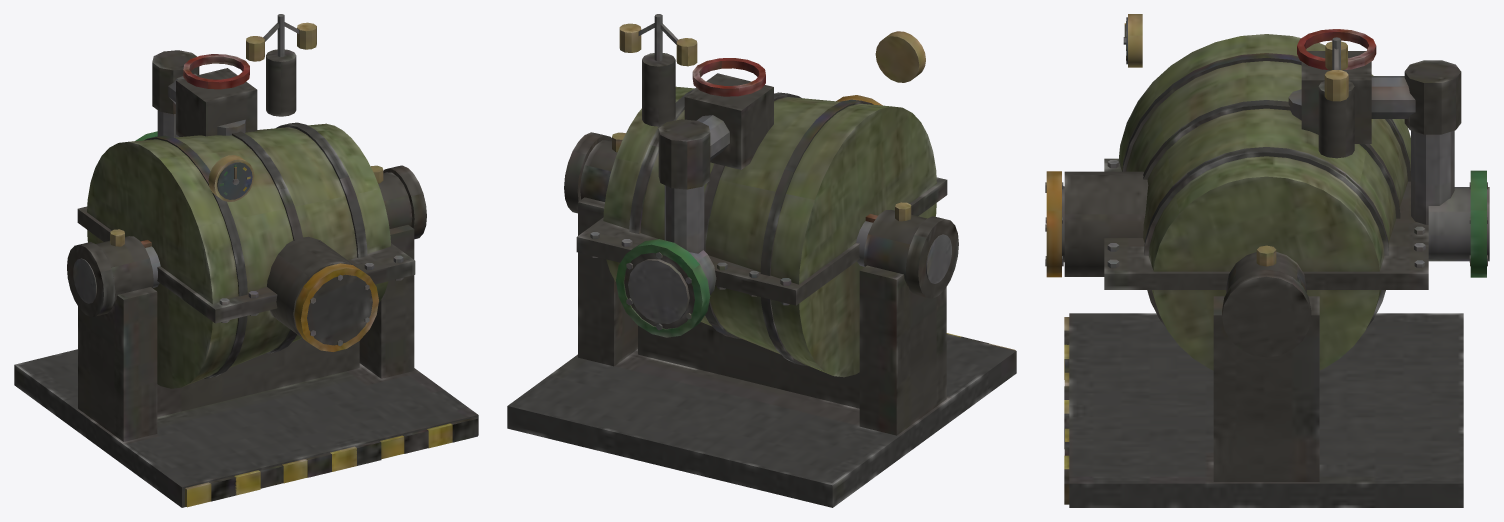
The model's file is feSteamTurbine.glb.
3 renders of one model, left to right at view 1: azimuth 30°, elevation 25°; view 2: azimuth 150°, elevation 25°; view 3: azimuth 270°, elevation 25°, orthographic. The views are drawn at different scales.
Parts seen in each view (by area): view 1: feSteamTurbine_Base, FeSpin_DriveShaft, FeSpin_x2_Governor; view 2: feSteamTurbine_Base, FeSpin_DriveShaft, FeSpin_x2_Governor; view 3: feSteamTurbine_Base, FeSpin_DriveShaft, FeSpin_x2_Governor.
Boxes of the visible parts, left/top/right/bottom form: feSteamTurbine_Base: left=14, top=49, right=478, bottom=507; FeSpin_DriveShaft: left=67, top=165, right=426, bottom=317; FeSpin_x2_Governor: left=246, top=14, right=316, bottom=61; feSteamTurbine_Base: left=507, top=31, right=1016, bottom=507; FeSpin_DriveShaft: left=564, top=132, right=958, bottom=298; FeSpin_x2_Governor: left=619, top=14, right=697, bottom=66; feSteamTurbine_Base: left=1045, top=14, right=1489, bottom=507; FeSpin_DriveShaft: left=1222, top=269, right=1311, bottom=357; FeSpin_x2_Governor: left=1324, top=37, right=1348, bottom=101.
Size of the model in its own units: 1 by 1.06 by 1.02.
1 material, 1 textured.
